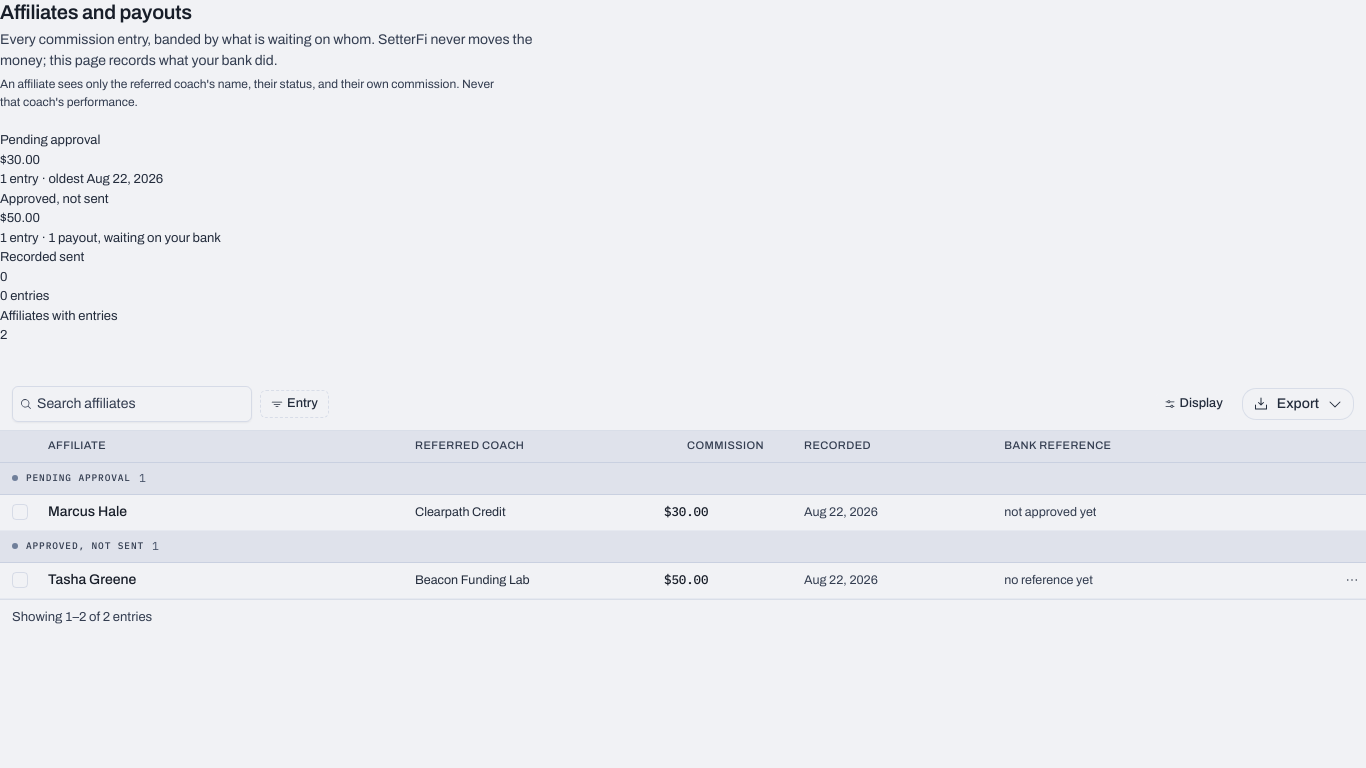
Test: AdminMoneyAffiliates › says when a payout was approved and by whom, on the row and in the sent dialog
This screenshot has width=1366, height=768.
Click the button "Tasha Greene" at (92, 579), box [48,562,391,598]
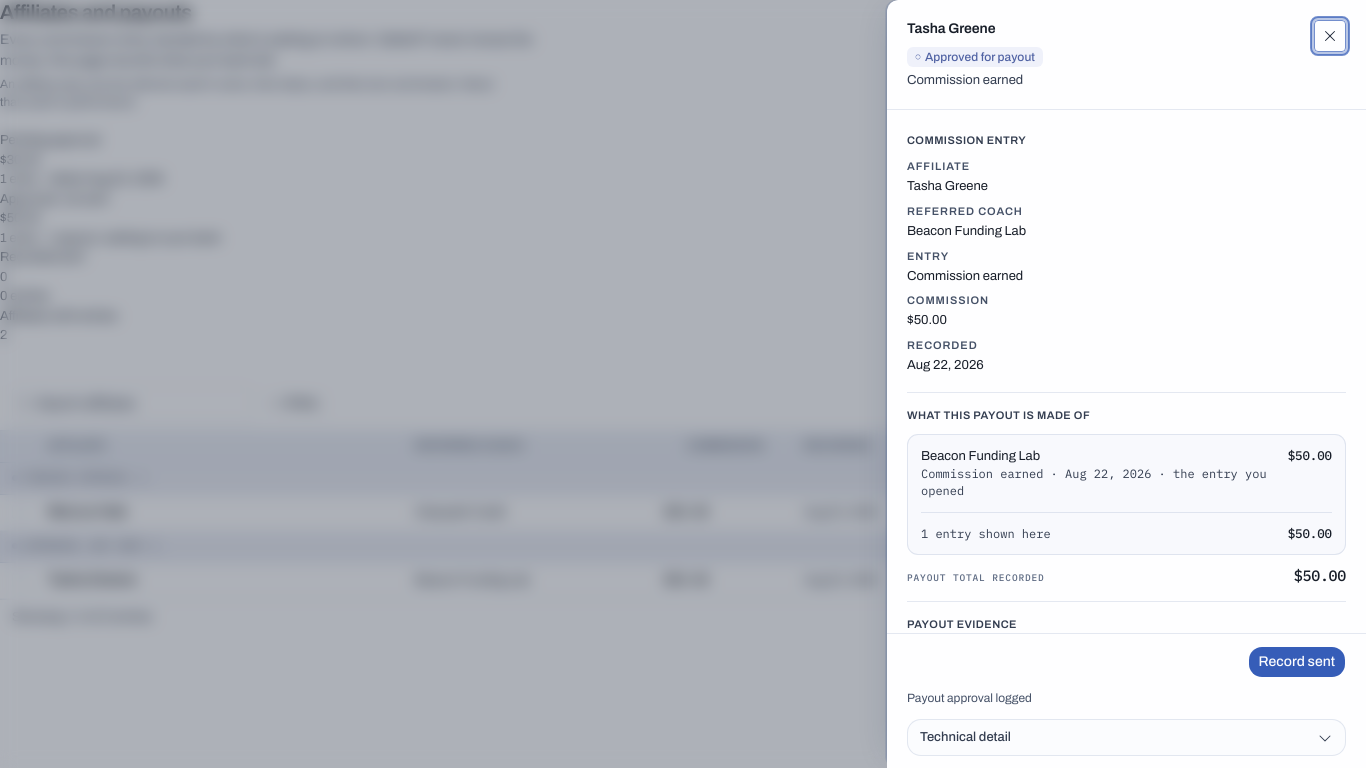
Press Escape
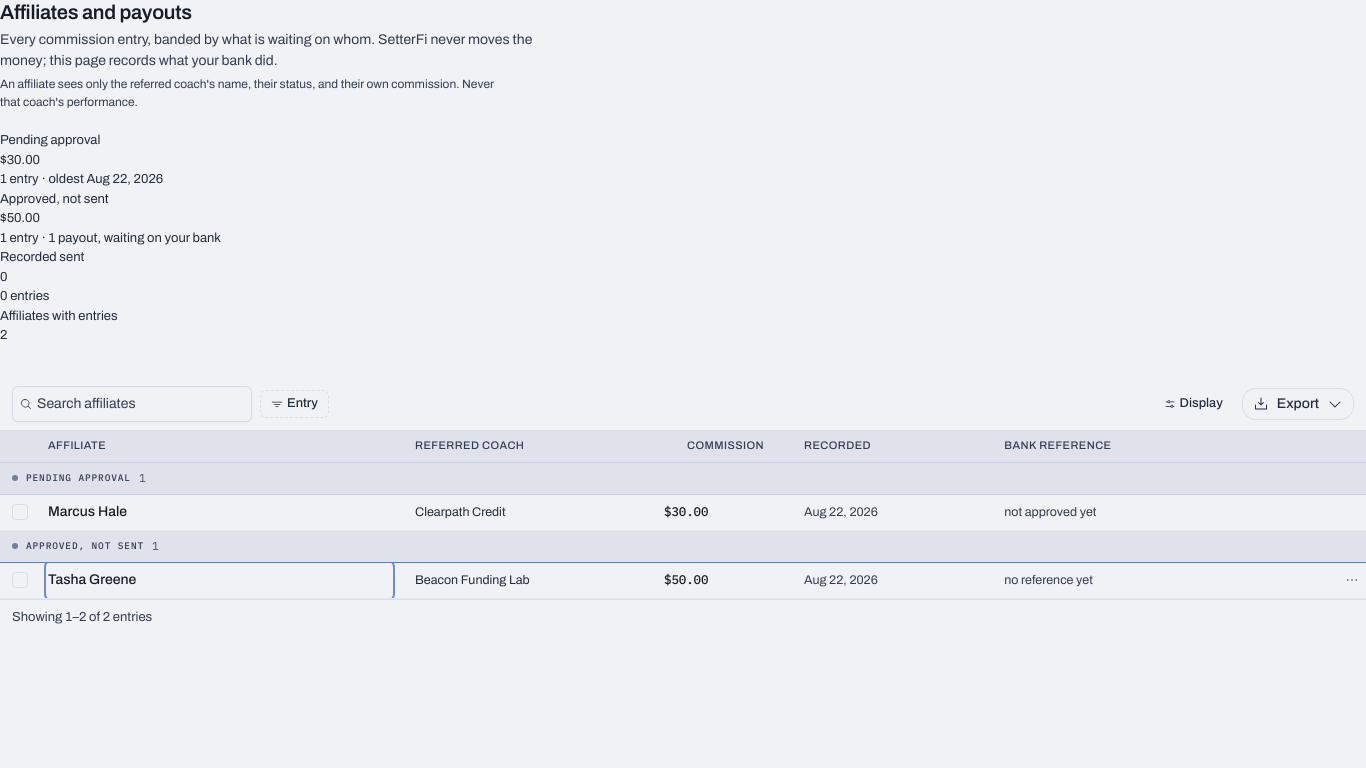
Click the button named "Payout actions for Tasha Greene" at (1352, 580), box [1338,566,1365,594]
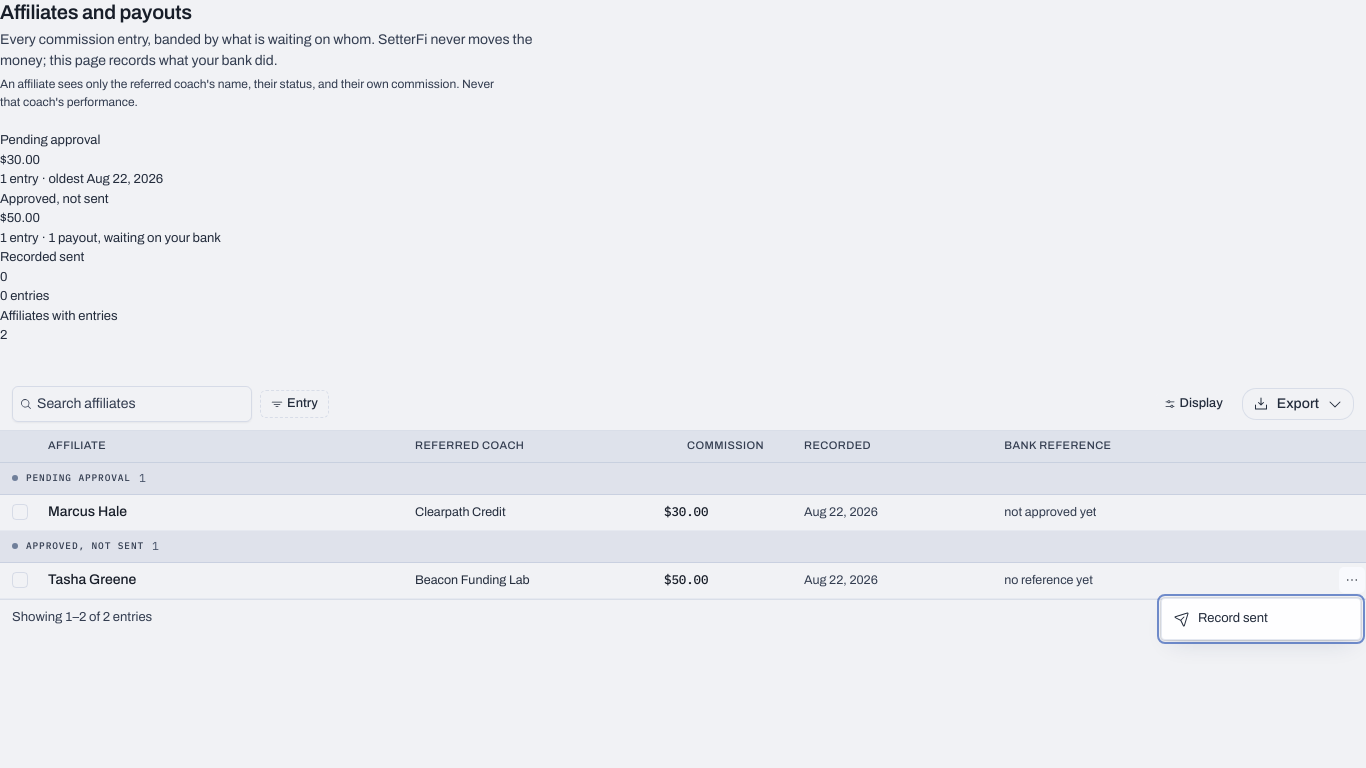
Click the menu item "Record sent" at (1221, 619), box [1174,611,1268,627]
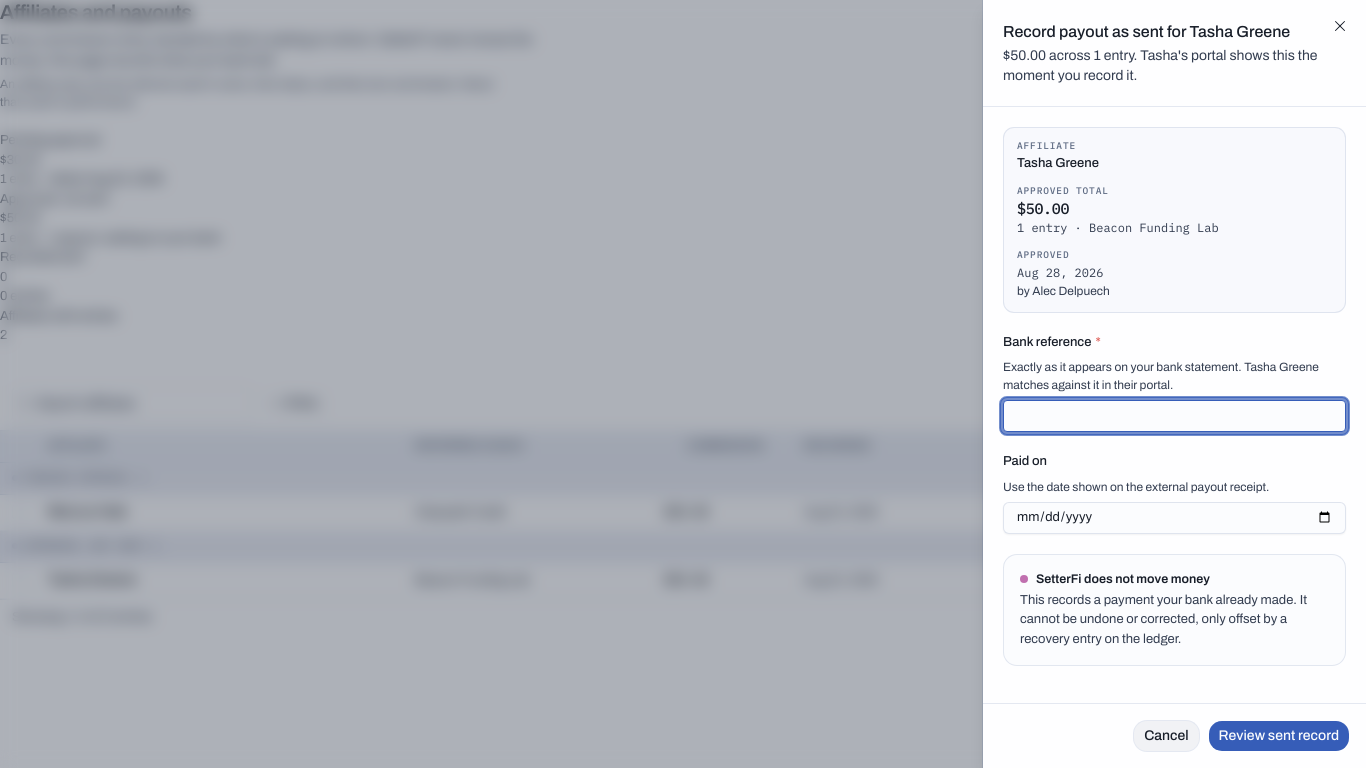
Now the text "Approved" is shown, box [1017,248,1070,261]
Now the text "by Alec Delpuech" is shown, box [1017,284,1110,298]
